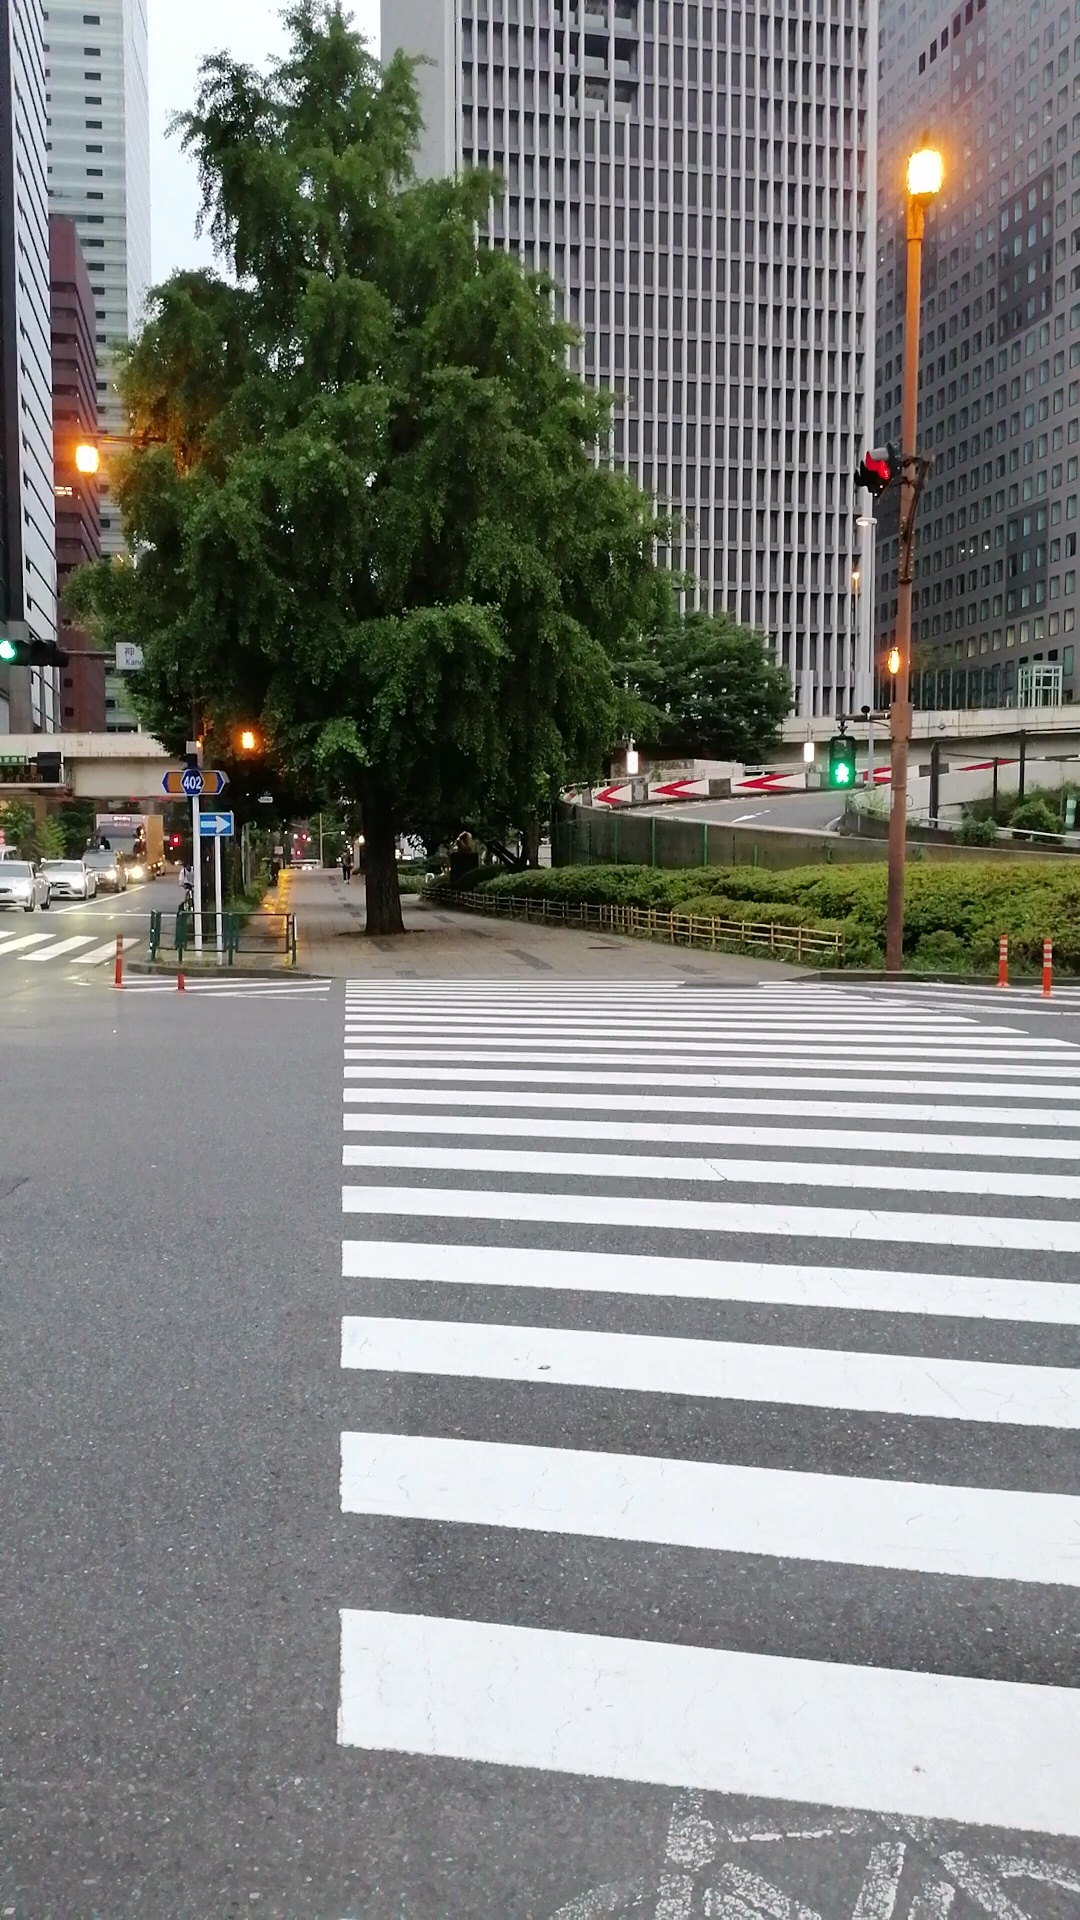green: (828, 735, 856, 786)
